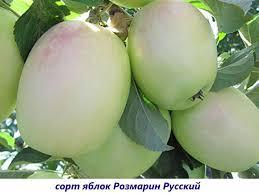Apple: (16, 19, 131, 156), (60, 78, 173, 178), (127, 0, 217, 111)
